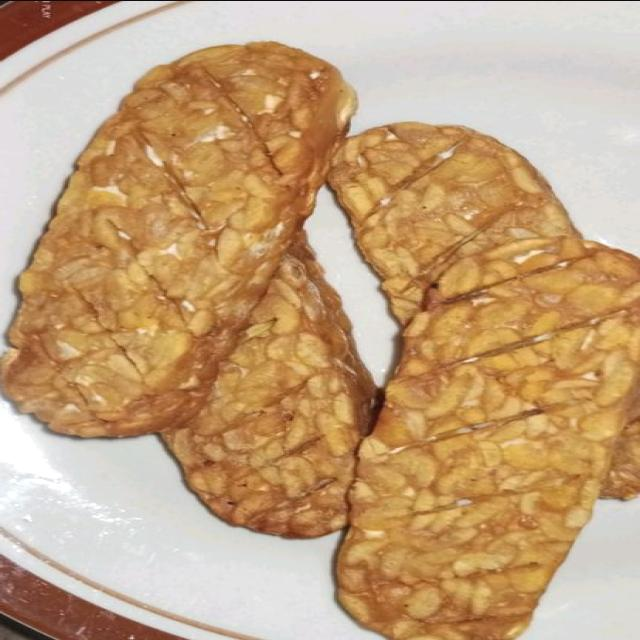tempe goreng: (0, 40, 356, 438), (334, 203, 640, 640)
